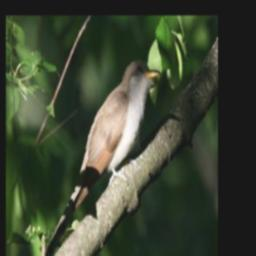Cuckoo: (39, 59, 161, 256)
